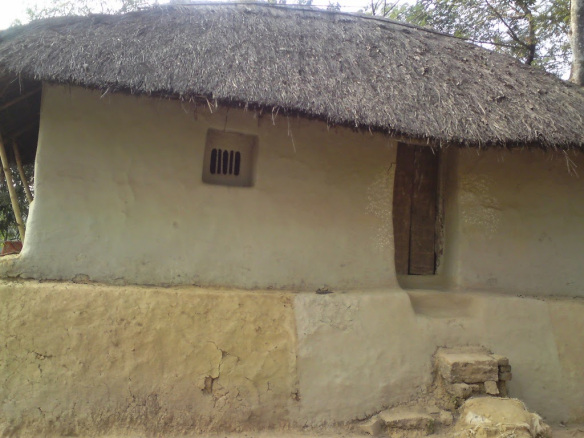Mud House: (6, 6, 564, 416)
